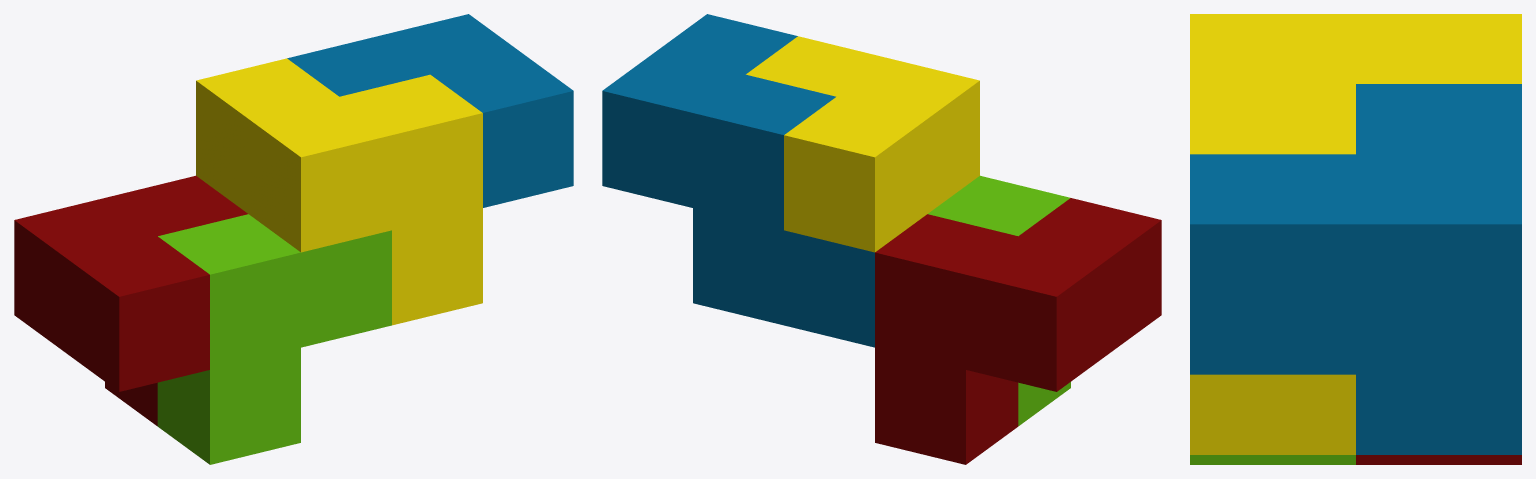
3 renders of one model, left to right at view 1: azimuth 30°, elevation 25°; view 2: azimuth 150°, elevation 25°; view 3: azimuth 270°, elevation 25°, orthographic. The views are drawn at different scales.
Visible parts, largest first — view 1: mergedBlocks(Clone); view 2: mergedBlocks(Clone); view 3: mergedBlocks(Clone).
Boxes of the visible parts, x1,y1,x2,y2 form: mergedBlocks(Clone): (14, 14, 573, 464); mergedBlocks(Clone): (602, 14, 1161, 464); mergedBlocks(Clone): (1190, 14, 1521, 464).
Size of the model in its own units: 5 by 3 by 2.
4 materials, 4 textured.
